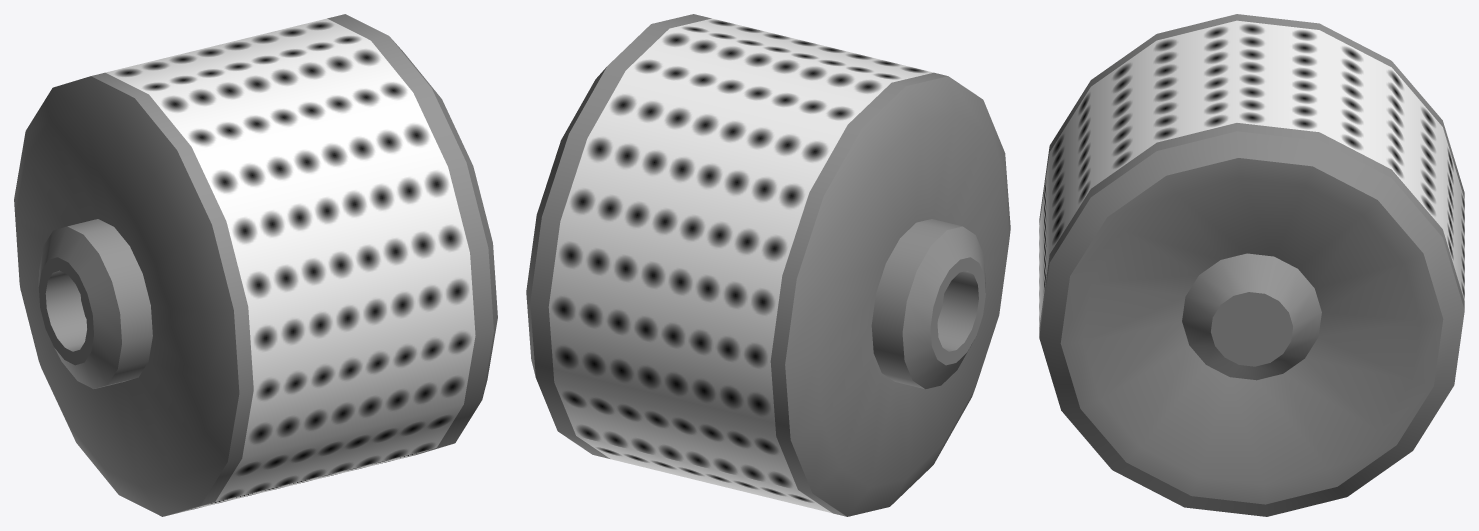
Rendered from SojournerWheel.fbx.
3 renders of one model, left to right at view 1: azimuth 30°, elevation 25°; view 2: azimuth 150°, elevation 25°; view 3: azimuth 270°, elevation 25°, orthographic. The views are drawn at different scales.
Visible parts, largest first — view 1: RoverFrontWheel.L.002; view 2: RoverFrontWheel.L.002; view 3: RoverFrontWheel.L.002.
Part boxes in pixels (x1,y1,x2,y2): RoverFrontWheel.L.002: (14,14,497,516); RoverFrontWheel.L.002: (526,14,1010,516); RoverFrontWheel.L.002: (1039,14,1464,516).
Bounding box in the file's own units: 50.61 × 50.61 × 42.89.
